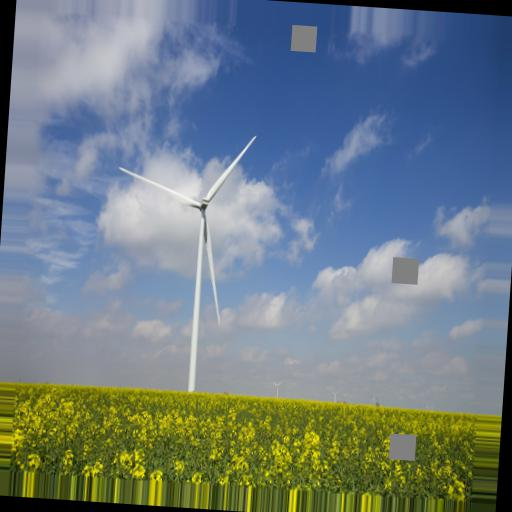wind turbine: (116, 133, 260, 398)
